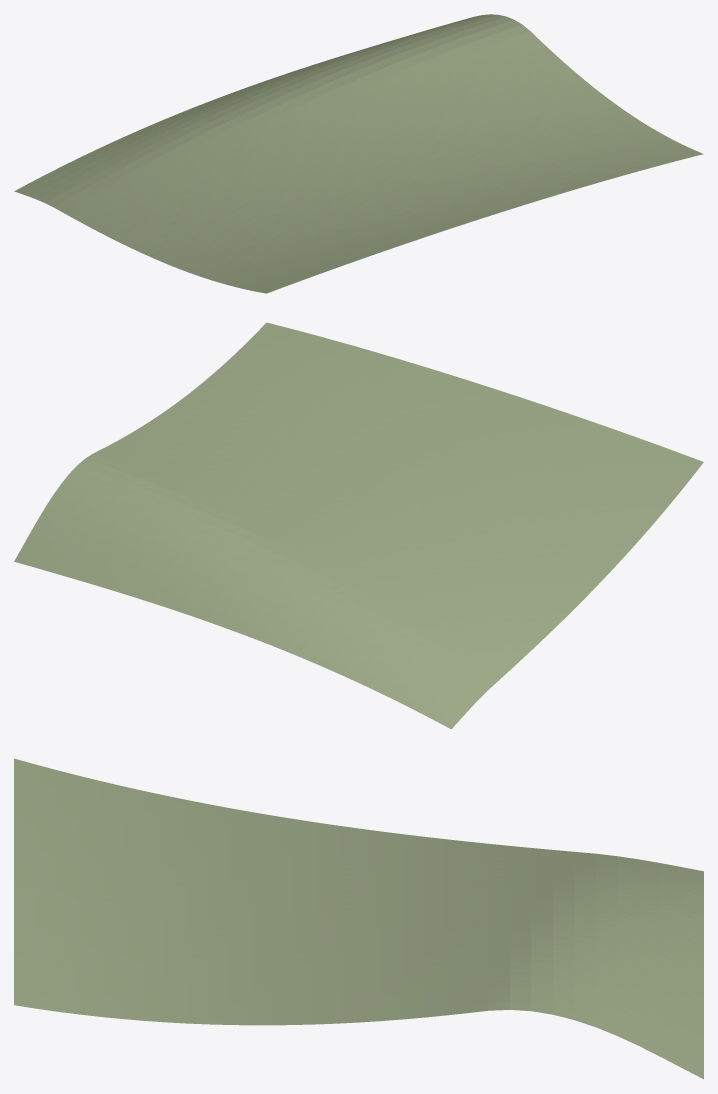
Rendered from alpine-8-3.glb.
The picture shows the model from 3 angles, top to bottom: view 1: azimuth 30°, elevation 25°; view 2: azimuth 150°, elevation 25°; view 3: azimuth 270°, elevation 25°; orthographic projection. The views are drawn at different scales.
Parts seen in each view (by area): view 1: alpine-8-3; view 2: alpine-8-3; view 3: alpine-8-3.
Boxes of the visible parts, x1=… form: alpine-8-3: x1=14, y1=14, x2=703, y2=293; alpine-8-3: x1=14, y1=322, x2=703, y2=729; alpine-8-3: x1=14, y1=758, x2=703, y2=1079.
Size of the model in its own units: 256 by 64.55 by 256.
